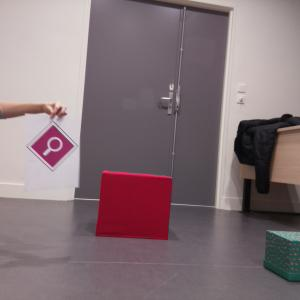search: (26, 120, 78, 172)
